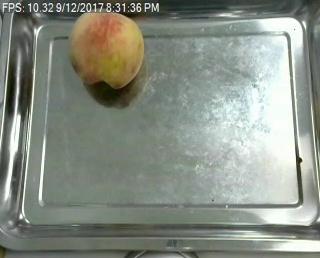Peach: (68, 7, 145, 89)
